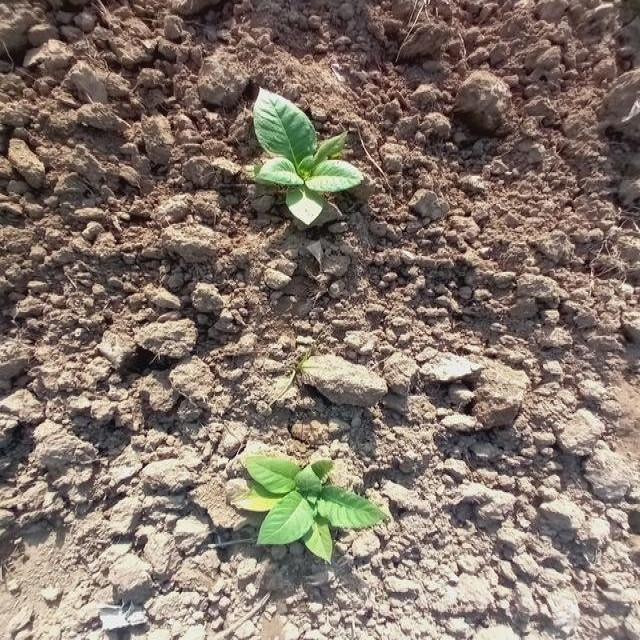crop: (248, 80, 358, 222), (246, 448, 372, 554)
